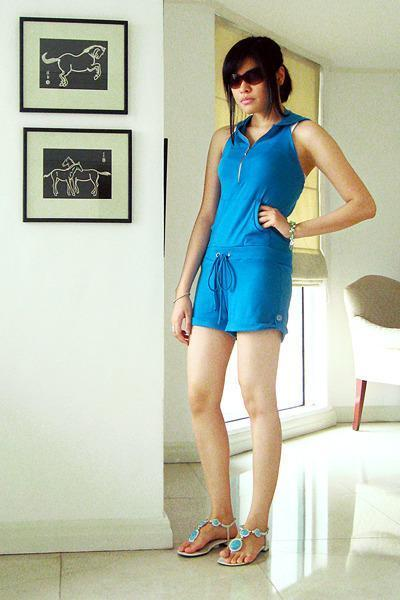dress: (192, 110, 307, 347)
shoe: (214, 516, 269, 564)
sunglass: (244, 60, 274, 85)
